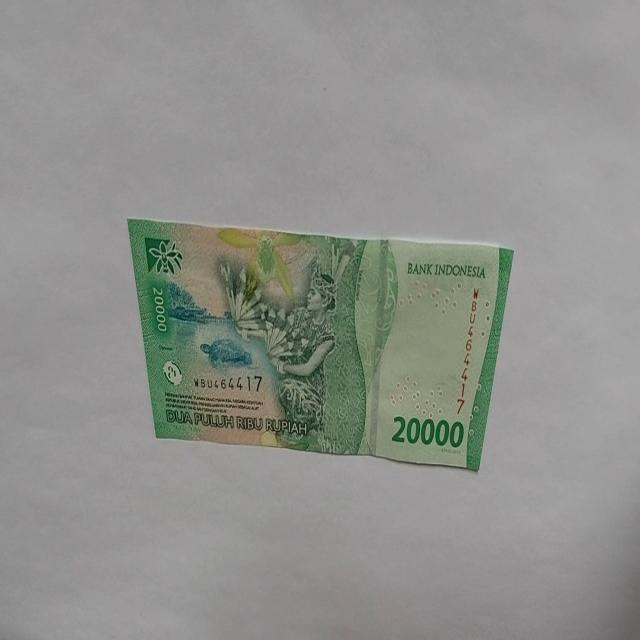dua puluh ribu rupiah: (126, 216, 514, 472)
